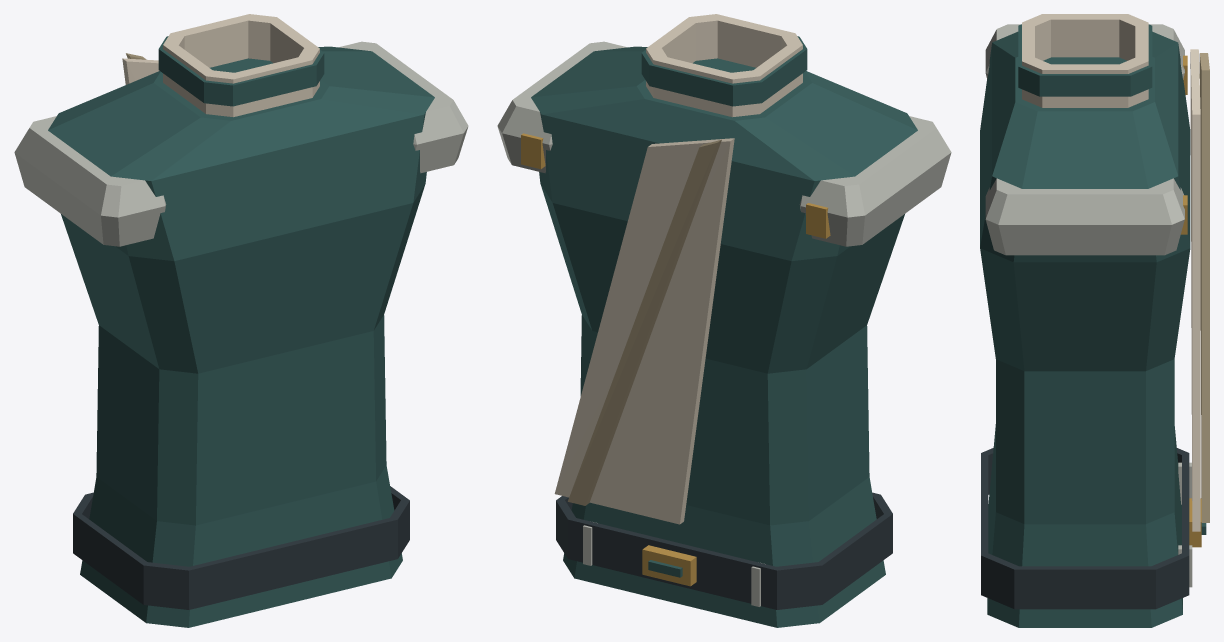
The model's file is visual-far.glb.
The picture shows the model from 3 angles, left to right: view 1: azimuth 30°, elevation 25°; view 2: azimuth 150°, elevation 25°; view 3: azimuth 270°, elevation 25°; orthographic projection.
Visible parts, largest first — view 1: 现有程序躯干 · 同用途配色; view 2: 现有程序躯干 · 同用途配色; view 3: 现有程序躯干 · 同用途配色.
Part boxes in pixels (bbox=[...]): 现有程序躯干 · 同用途配色: bbox=[14, 14, 468, 627]; 现有程序躯干 · 同用途配色: bbox=[497, 14, 951, 627]; 现有程序躯干 · 同用途配色: bbox=[980, 14, 1209, 627].
Bounding box in the file's own units: 0.458 × 0.62 × 0.247.
6 materials, 6 textured.
